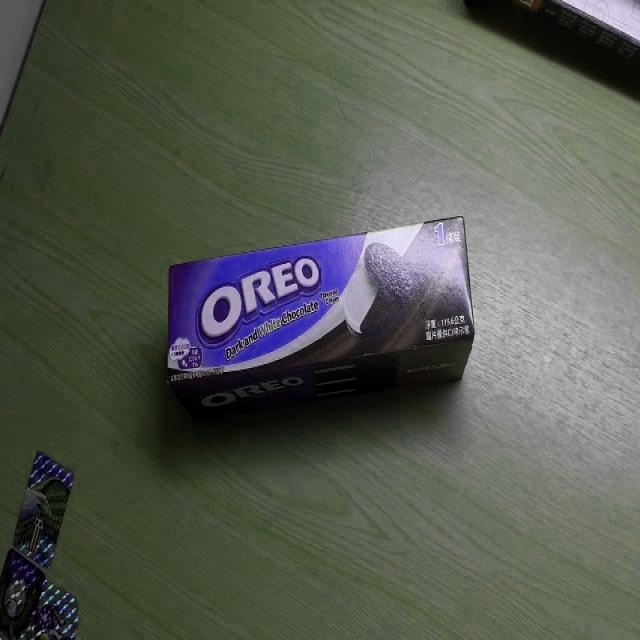Oreo: (166, 215, 478, 416)
